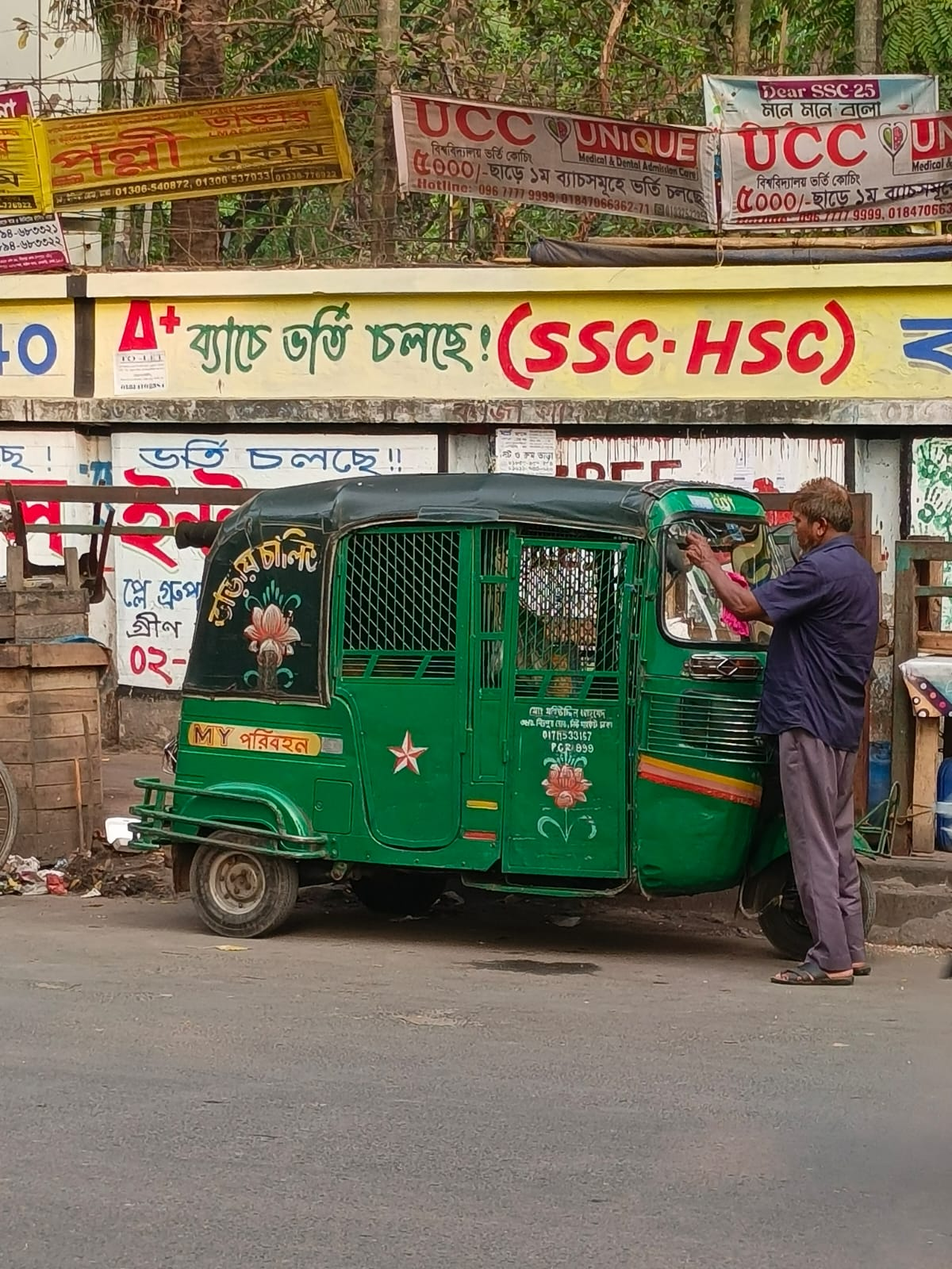cng: (131, 465, 830, 922)
